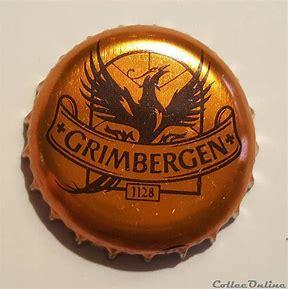metal: (24, 26, 256, 260)
